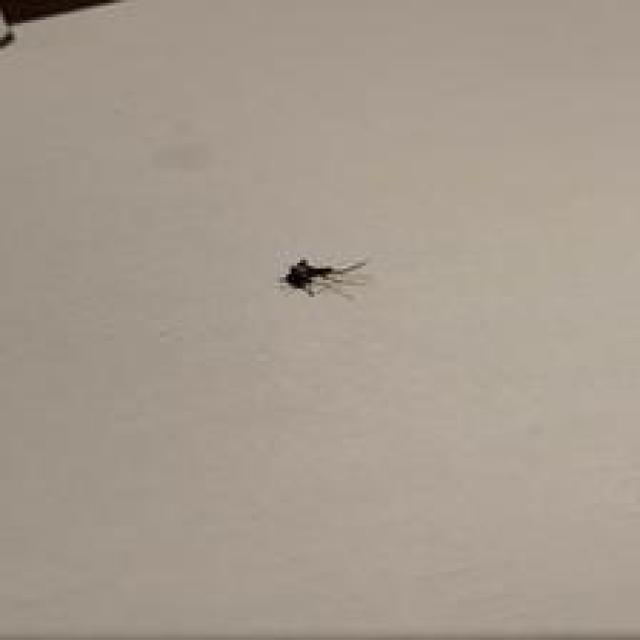Aedes albopictus: (282, 256, 367, 298)
